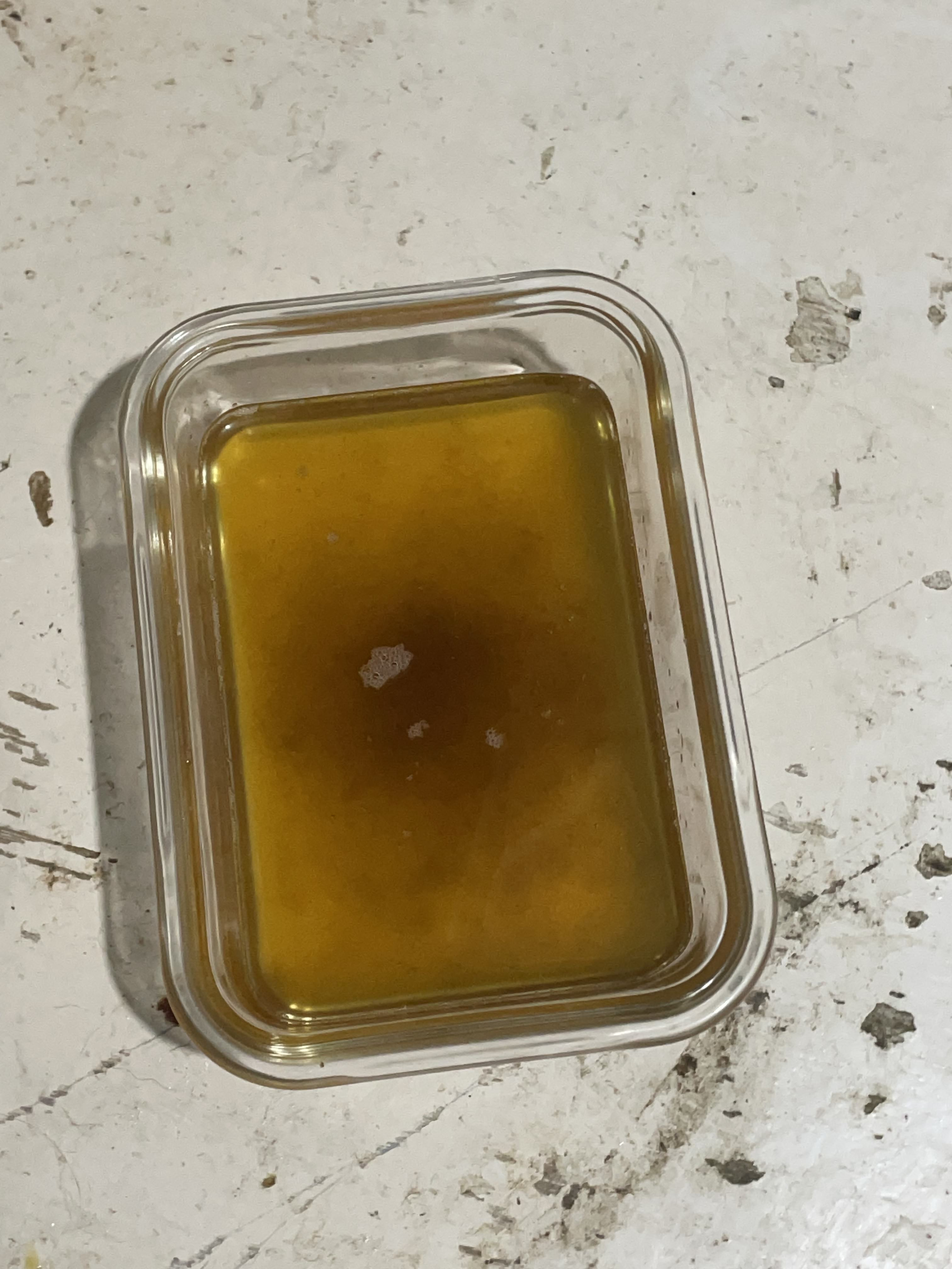reusable: (189, 371, 693, 1017)
